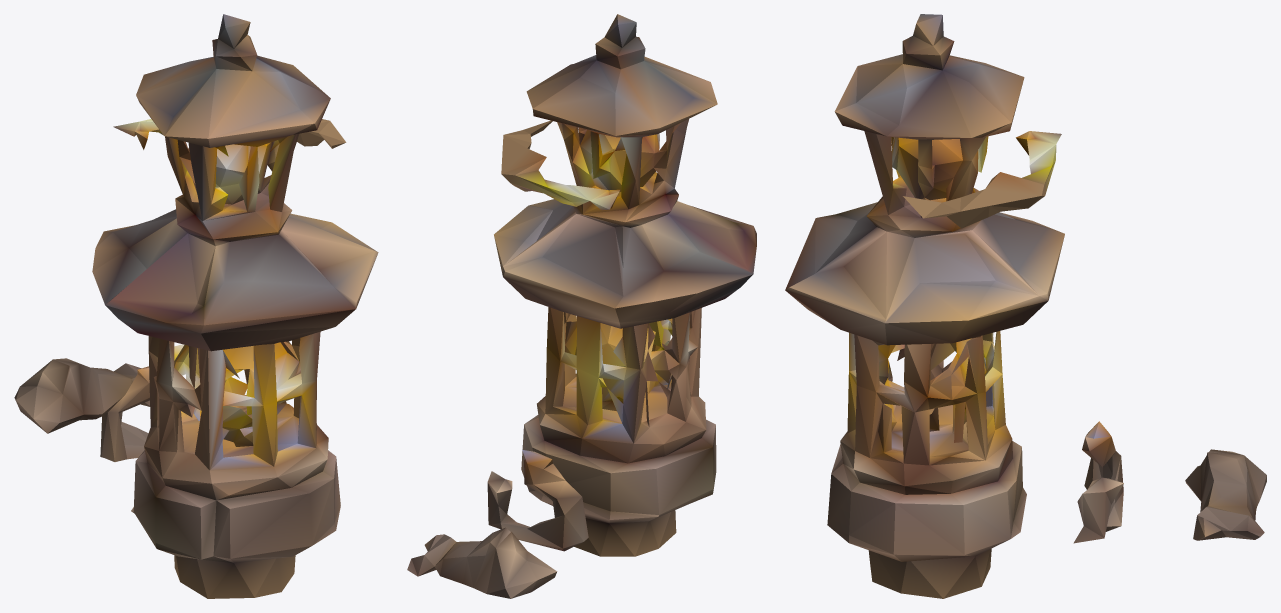
Rendered from fener.glb.
3 renders of one model, left to right at view 1: azimuth 30°, elevation 25°; view 2: azimuth 150°, elevation 25°; view 3: azimuth 270°, elevation 25°, orthographic. The views are drawn at different scales.
Visible parts, largest first — view 1: geometry_0; view 2: geometry_0; view 3: geometry_0.
Part boxes in pixels (box(x1,y1,x2,y2)): geometry_0: box(14, 14, 378, 598); geometry_0: box(407, 14, 756, 598); geometry_0: box(785, 14, 1266, 598).
Size of the model in its own units: 0.4845 by 1 by 0.7847.
